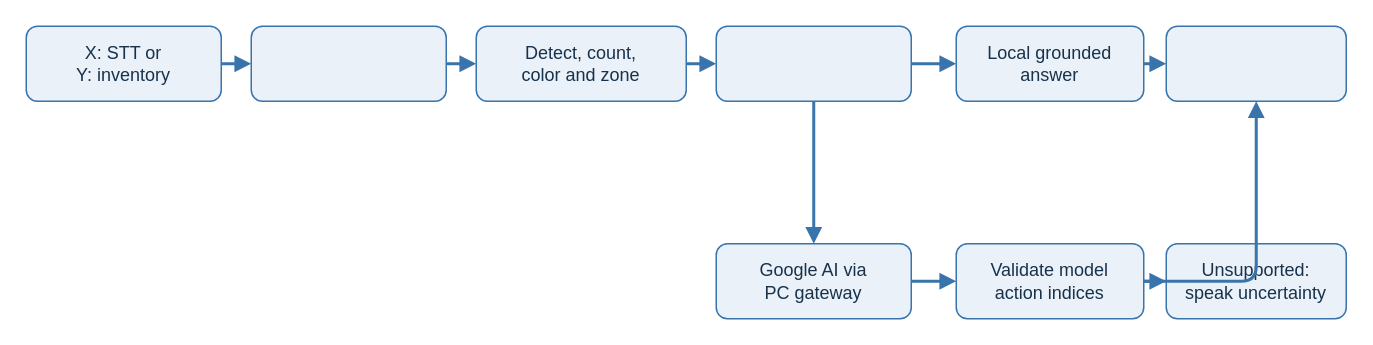
Image size: 1373x345. Some labels were removed from this diagram. Here are the shapes that lost their labels. From the top down, the centre of each, then its label:
the point at 348,63: Fresh camera snapshot
the point at 813,63: Classify question
the point at 1255,63: Text and spoken audio
